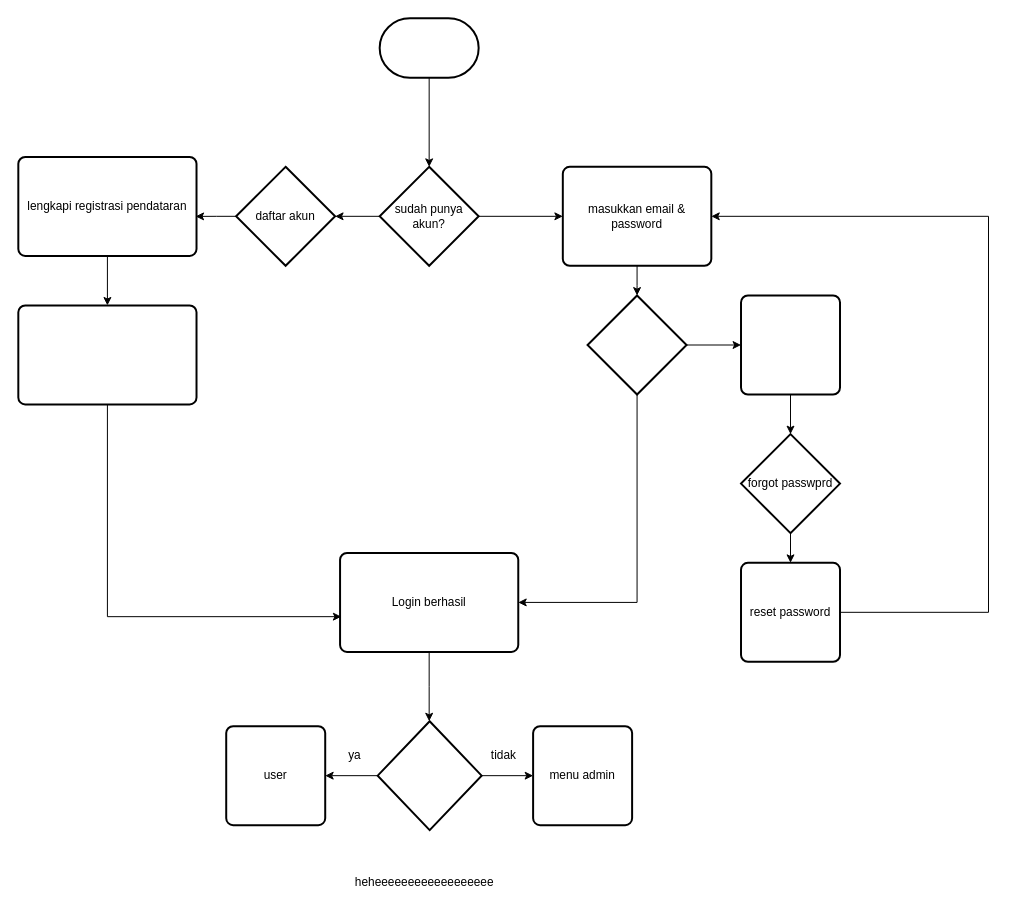
The diagram is 1014 pixels wide and 914 high, and some of its shapes have lost their labels. The shapes that lost their labels are listed below. From the top down, each one's centre as x and y in pixels, then its label:
At point 428,47: "mulai".
At point 107,354: "input email, username, password".
At point 636,344: "valid user".
At point 790,344: "login failed".
At point 429,775: "password & username sesuai user".
